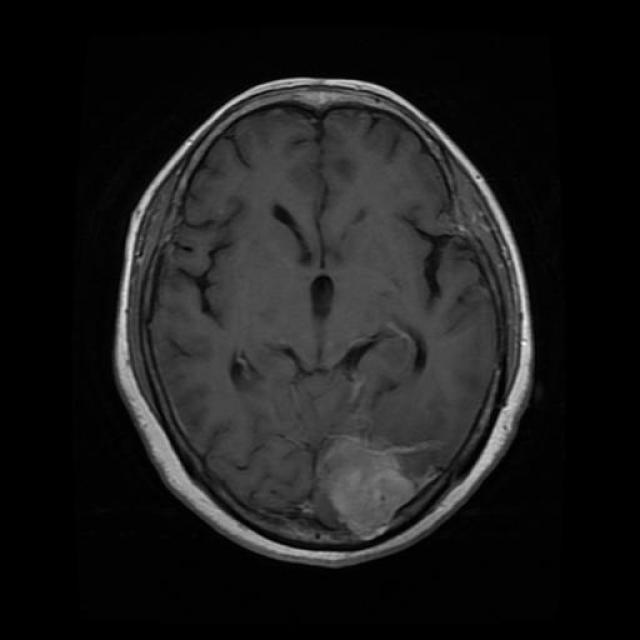meningioma: (320, 442, 415, 539)
